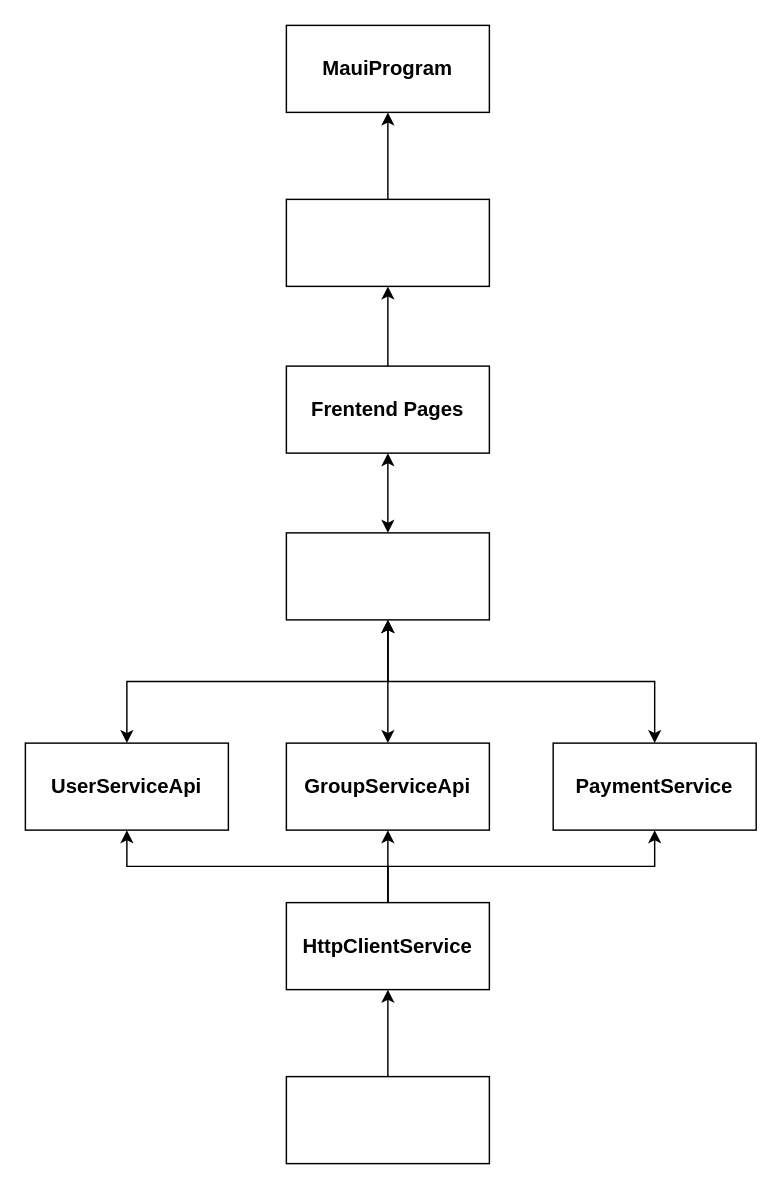
Image size: 782x1189. Some labels were removed from this diagram. Here are the shapes that lost their labels. From the top down, the box of each, then its label:
(285, 198, 489, 286): MauiApp
(285, 531, 489, 620): Models classes
(285, 1075, 489, 1164): AppConfig
